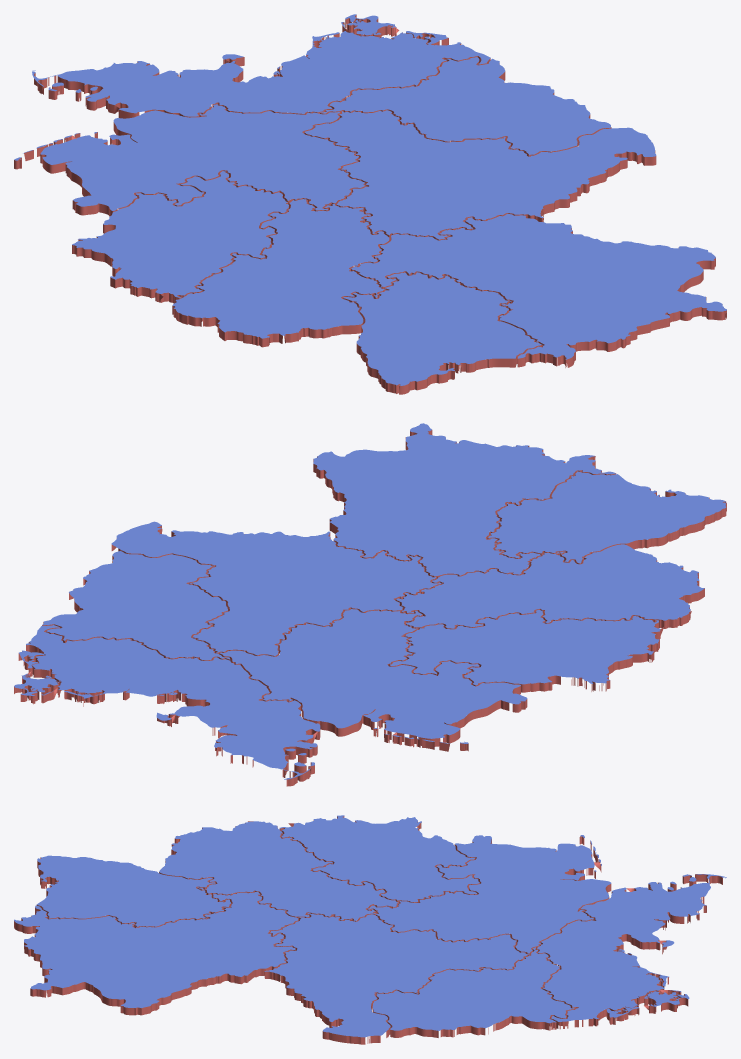
The picture shows the model from 3 angles, top to bottom: view 1: azimuth 30°, elevation 25°; view 2: azimuth 150°, elevation 25°; view 3: azimuth 270°, elevation 25°; orthographic projection. The views are drawn at different scales.
Parts seen in each view (by area): view 1: primary, secondary; view 2: primary, secondary; view 3: primary, secondary.
Boxes of the visible parts, left/top/right/bottom form: primary: left=14, top=14, right=726, bottom=385; secondary: left=14, top=15, right=726, bottom=394; primary: left=14, top=423, right=726, bottom=779; secondary: left=14, top=430, right=726, bottom=786; primary: left=14, top=815, right=726, bottom=1037; secondary: left=14, top=816, right=722, bottom=1044.
Bounding box in the file's own units: 24.96 × 0.38 × 33.85.
